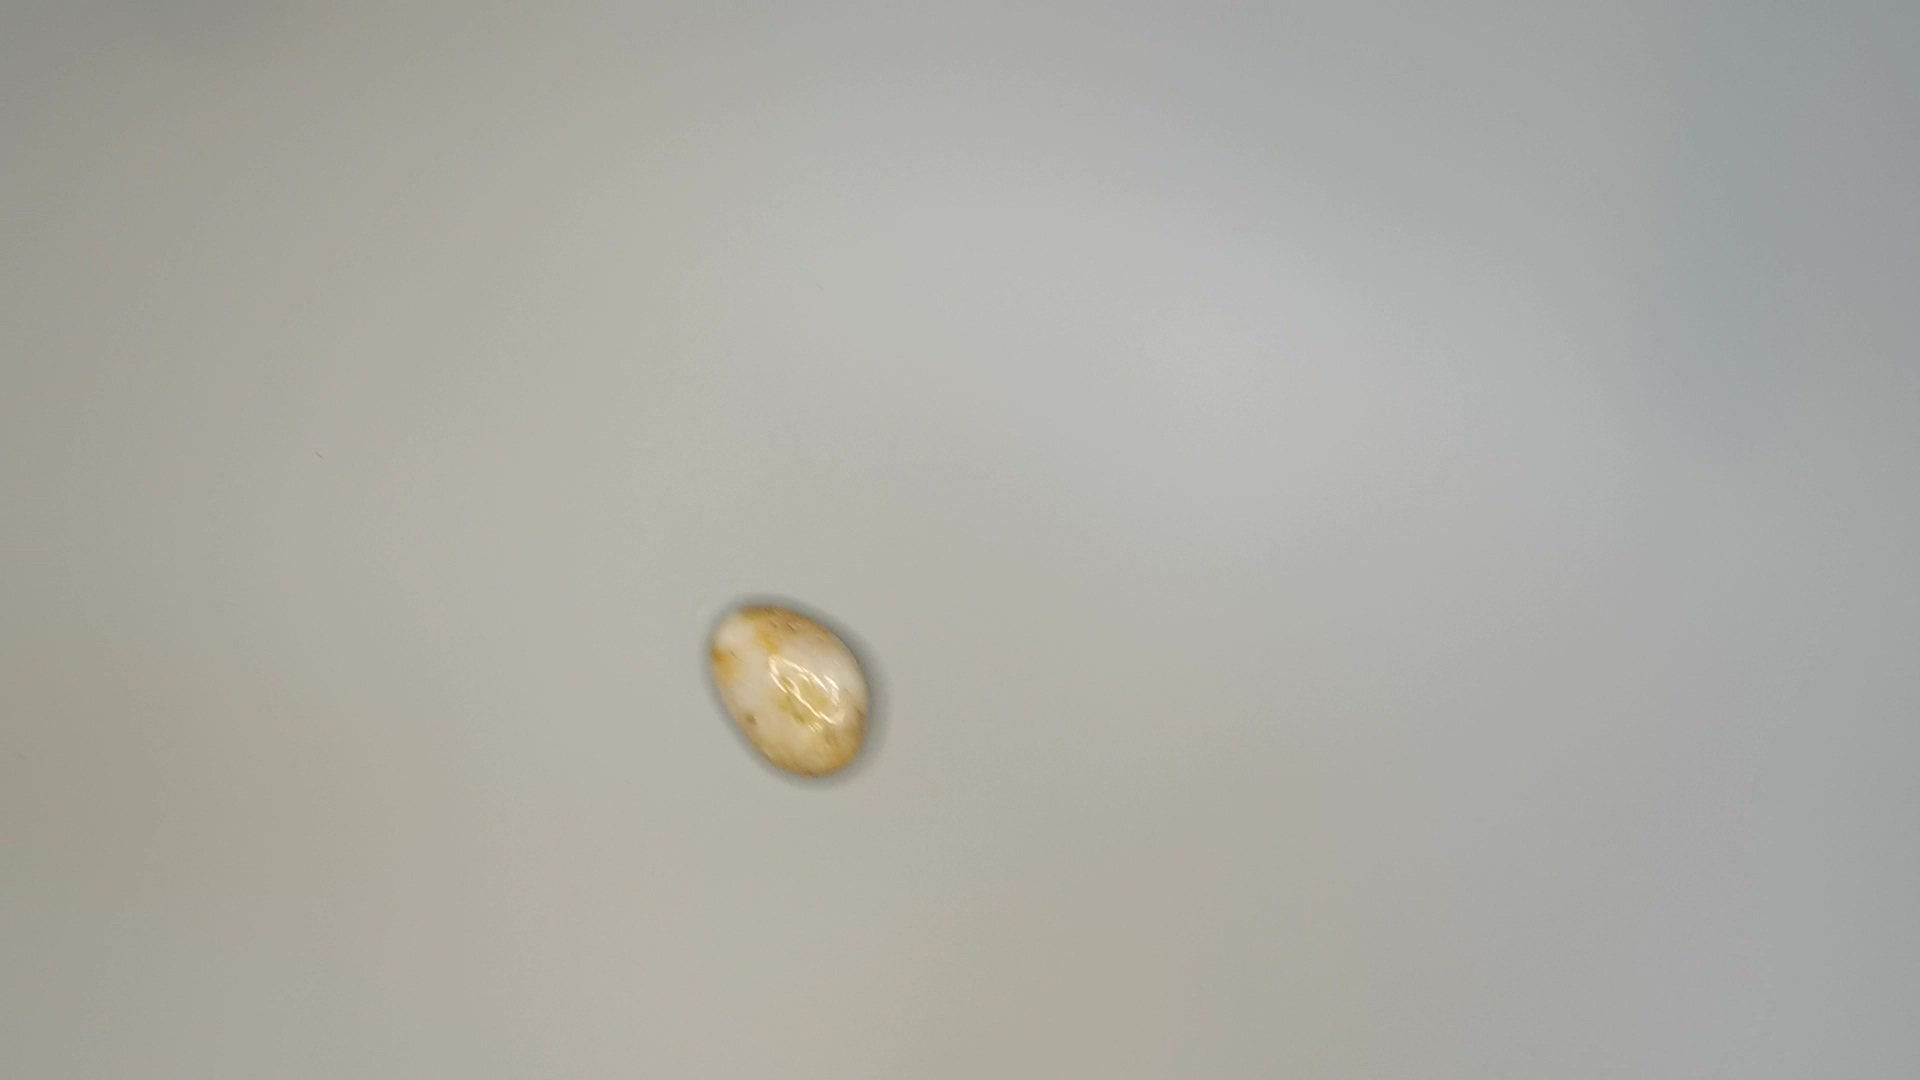ceramic: (707, 597, 873, 787)
